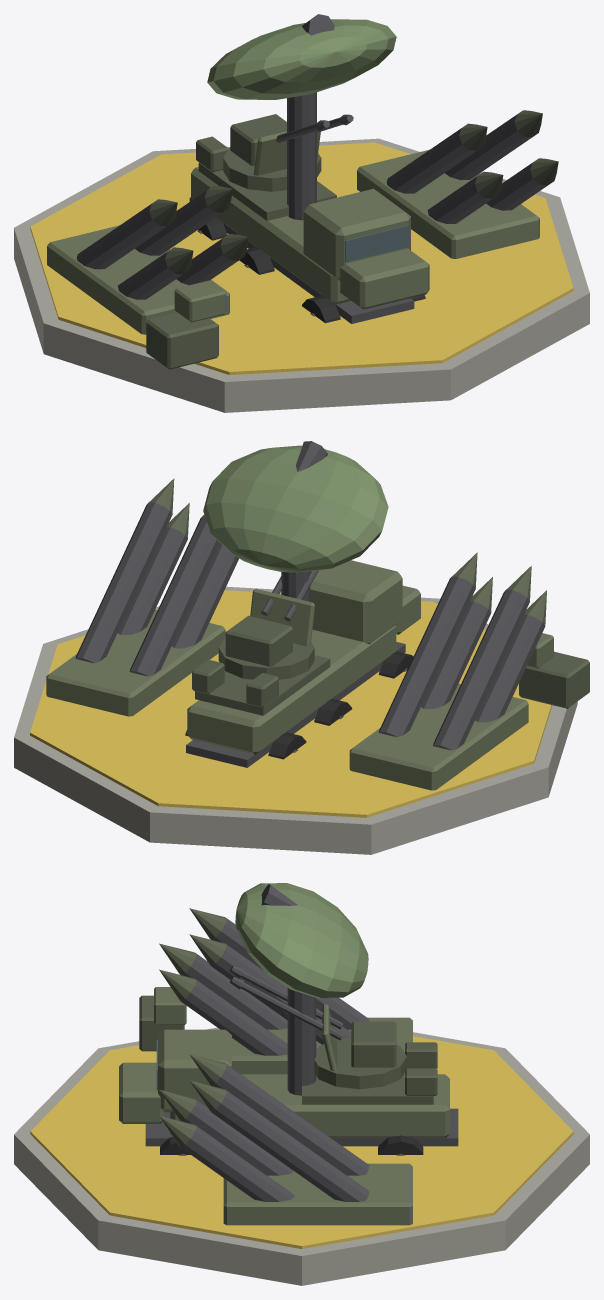
The model's file is ground-vehicles.glb.
The picture shows the model from 3 angles, top to bottom: view 1: azimuth 30°, elevation 25°; view 2: azimuth 150°, elevation 25°; view 3: azimuth 270°, elevation 25°; orthographic projection. The views are drawn at different scales.
Visible parts, largest first — view 1: ring, pad, dish_face, rack_base_1, rack_base_-1, cab, hull, hood, mast, crate1, tube_-1_2, tube_1_2 (+24 smaller); view 2: ring, pad, dish_face, hull, rack_base_-1, rack_base_1, cab, tube_-1_3, tube_1_3, tube_-1_2, tube_1_2, crate1 (+18 smaller); view 3: ring, pad, dish_face, rack_base_1, hull, tube_1_3, cab, tube_1_2, tube_1_1, tube_-1_1, mast, turret_ring (+25 smaller).
Boxes of the visible parts, x1,y1,x2,y2 form: ring: [30, 142, 573, 374]; pad: [14, 138, 589, 412]; dish_face: [207, 19, 396, 99]; rack_base_1: [357, 149, 539, 258]; rack_base_-1: [47, 225, 229, 334]; cab: [303, 188, 410, 280]; hull: [191, 167, 350, 304]; hood: [340, 248, 429, 309]; mast: [287, 92, 316, 220]; crate1: [146, 312, 218, 369]; tube_-1_2: [77, 204, 166, 269]; tube_1_2: [386, 128, 476, 193]; ring: [30, 590, 552, 817]; pad: [14, 586, 577, 854]; dish_face: [203, 445, 388, 572]; hull: [187, 625, 396, 754]; rack_base_-1: [349, 683, 528, 790]; rack_base_1: [46, 609, 225, 716]; cab: [310, 560, 402, 644]; tube_-1_3: [378, 576, 475, 737]; tube_1_3: [75, 502, 172, 663]; tube_-1_2: [433, 589, 529, 750]; tube_1_2: [129, 515, 219, 676]; crate1: [519, 651, 589, 708]; ring: [30, 1036, 573, 1248]; pad: [14, 1027, 589, 1285]; dish_face: [235, 883, 368, 997]; rack_base_1: [223, 1163, 412, 1225]; hull: [170, 1074, 449, 1138]; tube_1_3: [212, 1089, 369, 1201]; cab: [158, 1029, 231, 1112]; tube_1_2: [212, 1064, 369, 1175]; tube_1_1: [181, 1126, 294, 1201]; tube_-1_1: [181, 979, 287, 1055]; mast: [287, 988, 316, 1095]; turret_ring: [314, 1037, 406, 1089].
Size of the model in its own units: 14 by 7.49 by 14.
